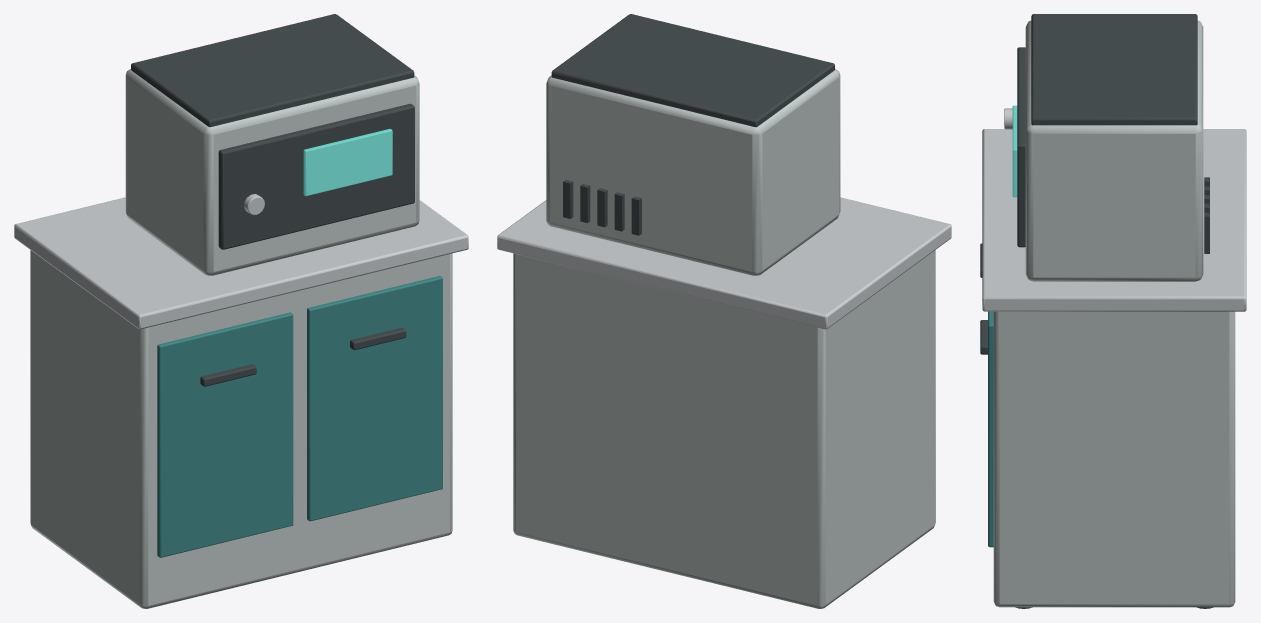
The model's file is LP_BenchAnalyzer.fbx.
3 renders of one model, left to right at view 1: azimuth 30°, elevation 25°; view 2: azimuth 150°, elevation 25°; view 3: azimuth 270°, elevation 25°, orthographic. The views are drawn at different scales.
Parts seen in each view (by area): view 1: Body; view 2: Body; view 3: Body.
Part boxes in pixels (x1,y1,x2,y2): Body: [14, 14, 468, 608]; Body: [497, 14, 951, 608]; Body: [980, 14, 1246, 608].
Bounding box in the file's own units: 106 × 142 × 70.55.
